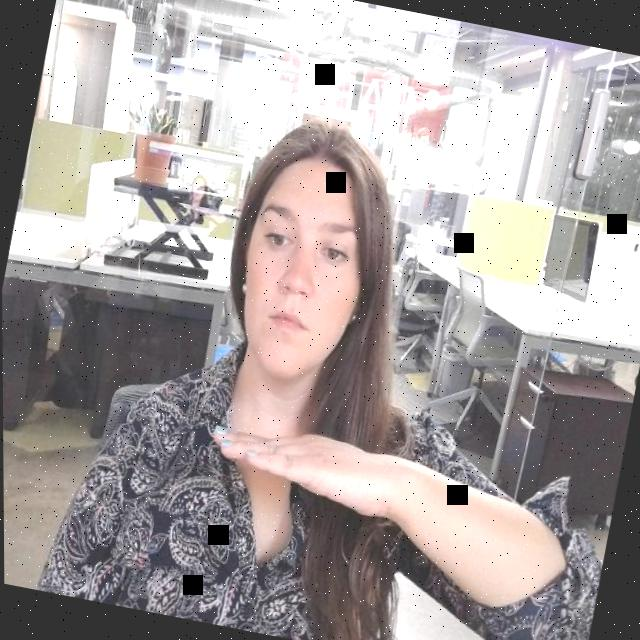Paper: (198, 398, 415, 542)
